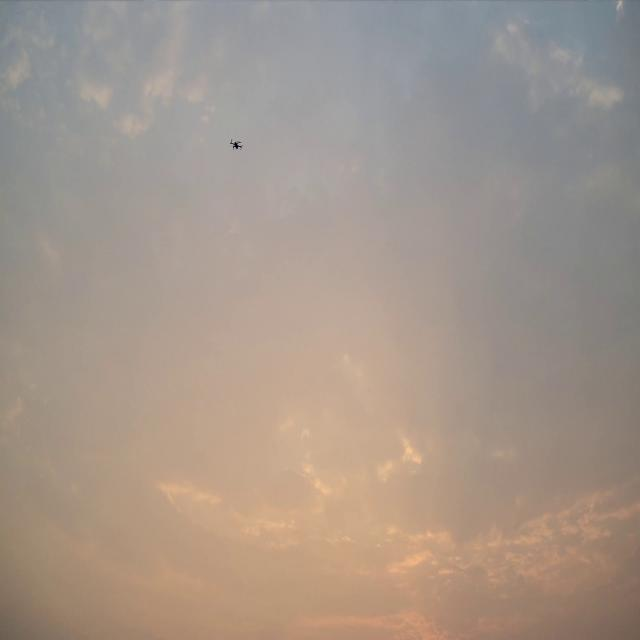drone: (230, 138, 243, 150)
